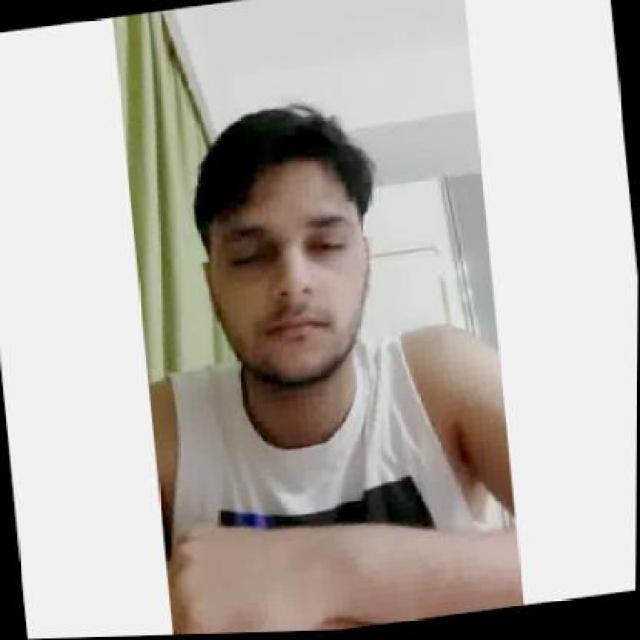inattentif: (180, 89, 388, 408)
